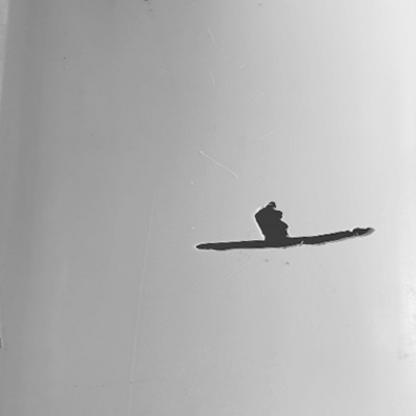fengxi: (193, 227, 380, 252)
kongdong: (252, 200, 296, 240)
